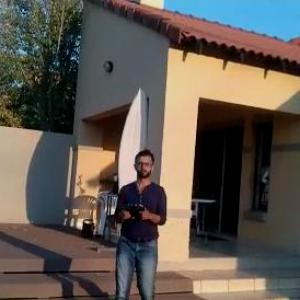follow: (106, 144, 173, 299)
